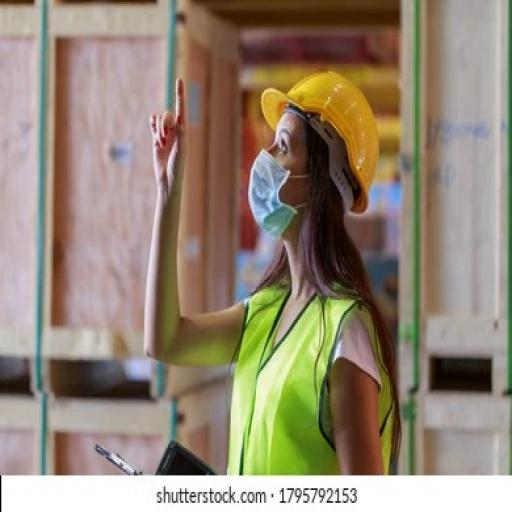mask: (240, 144, 296, 256)
